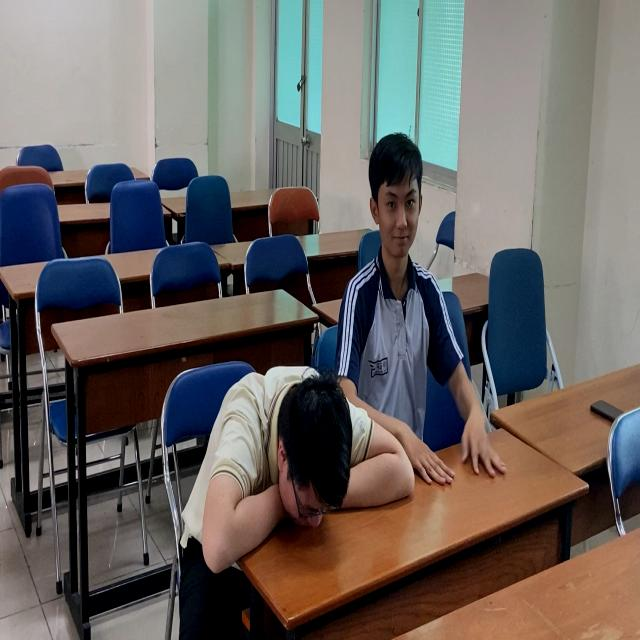sleep: (189, 358, 426, 573)
